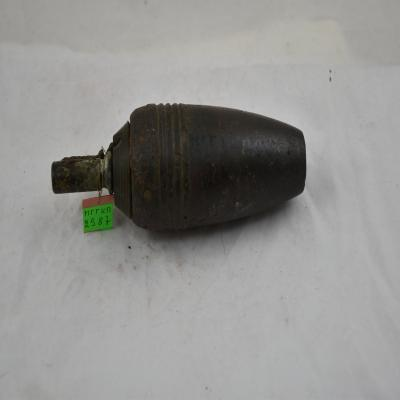other: (51, 103, 308, 236)
